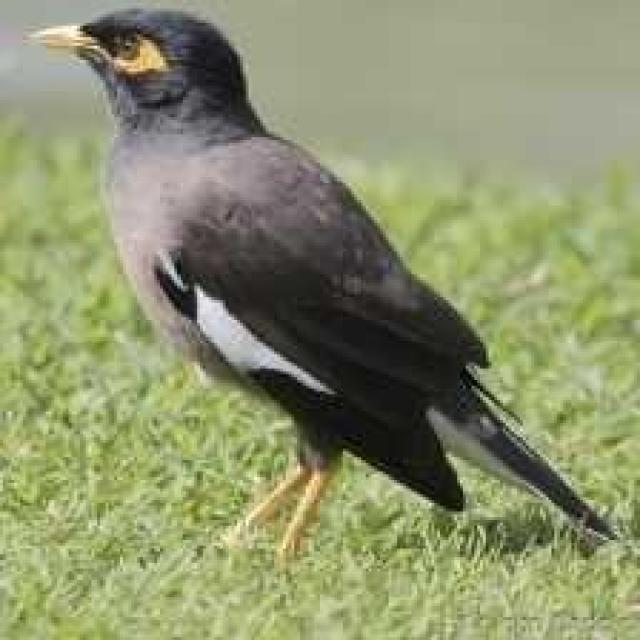bird: (23, 0, 622, 578)
